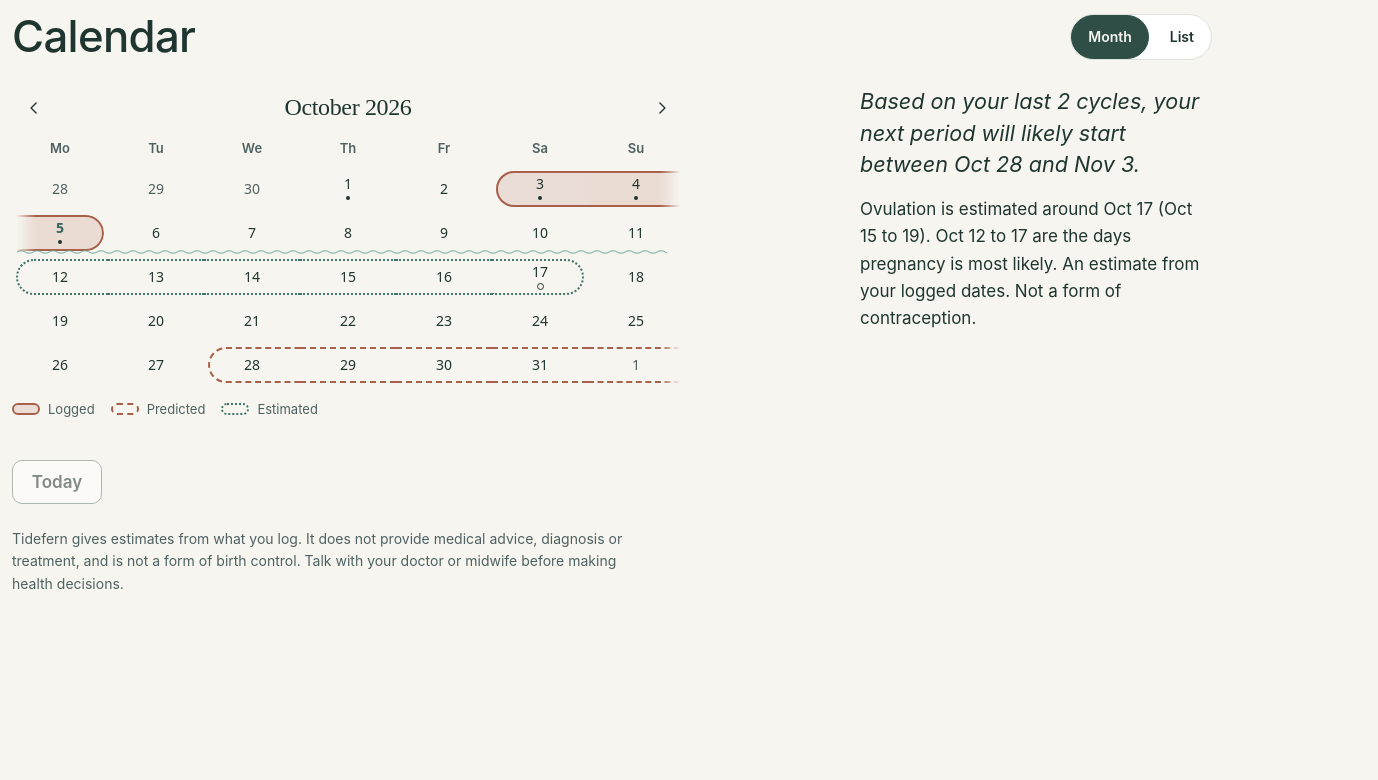
Test: moving between months while one is still loading › comes back to October for Next then Previous, and Today returns at once
The image size is (1378, 780).
Step 1. Click the button named "Next month" → (662, 108), box [640,86,684,130]
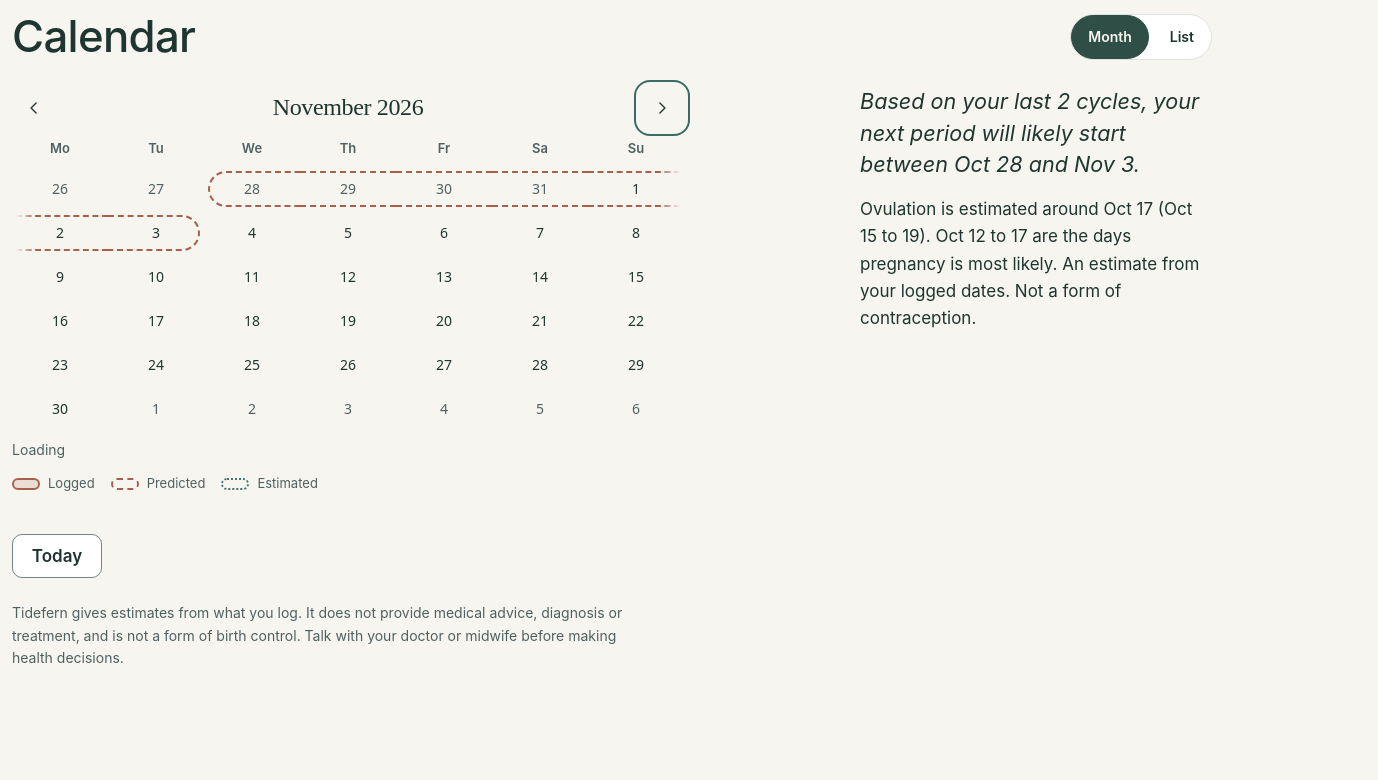
Expected: the table named "November 2026" is shown, [12,130,684,431]
Expected: the button "Today" is enabled, [12,534,102,578]
Step 2. Click the button named "Previous month" → (34, 108), box [12,86,56,130]
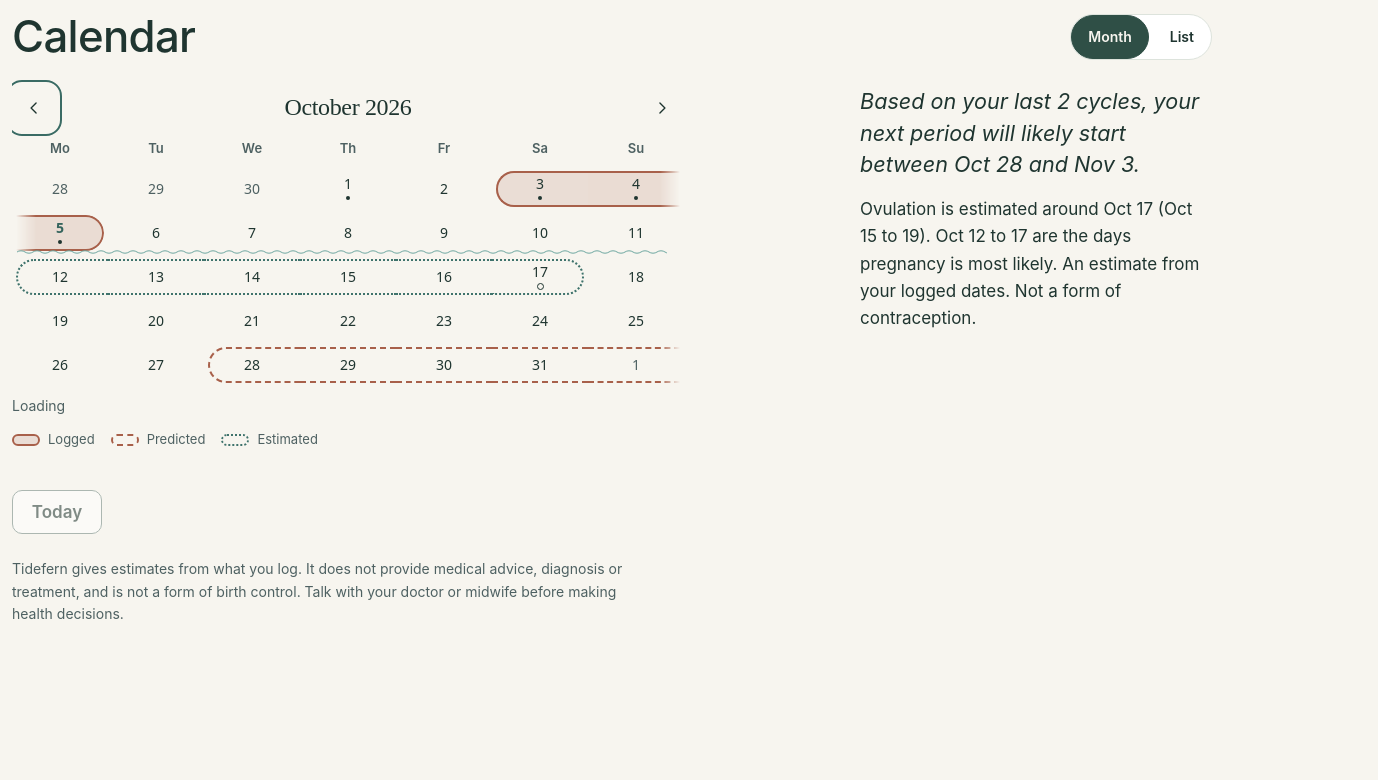
Expected: the table named "October 2026" is shown, [12,130,684,387]
